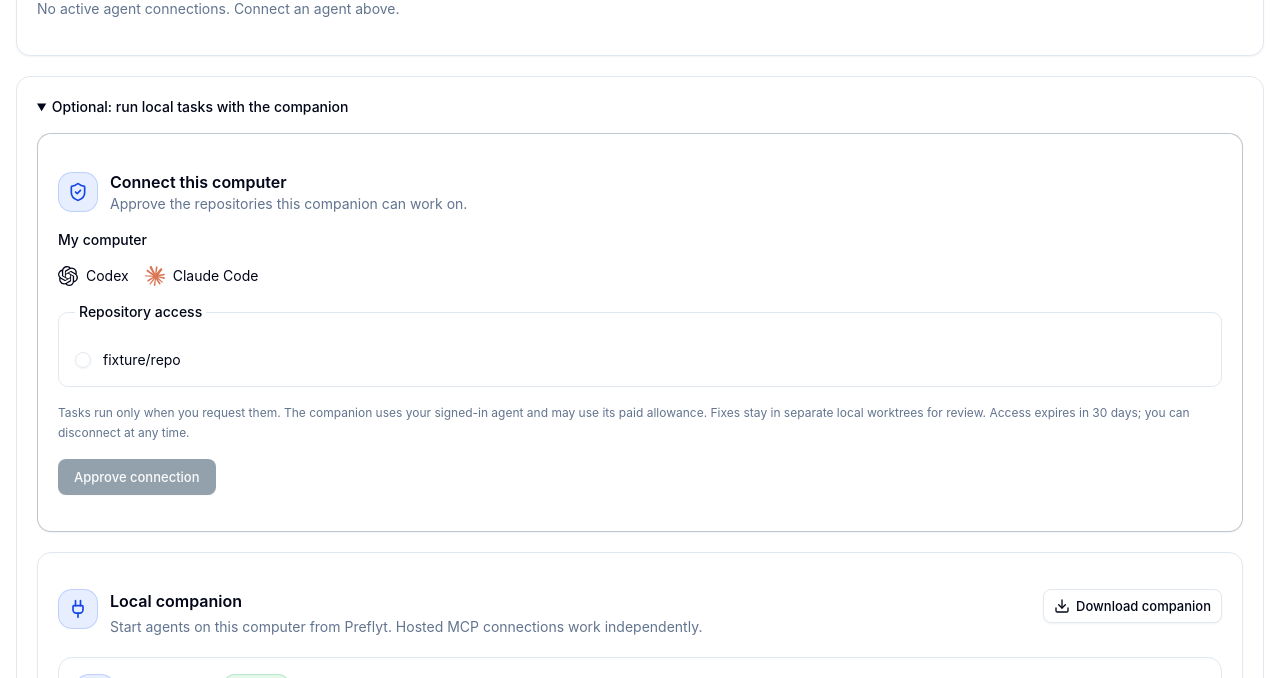
Test: requires explicit repository selection before approving a computer
The image size is (1280, 678).
(page scrolled)
Expected: the button "Approve connection" is disabled, [58,459,216,495]
Click the checkbox at (83, 360), box [75,352,91,368]
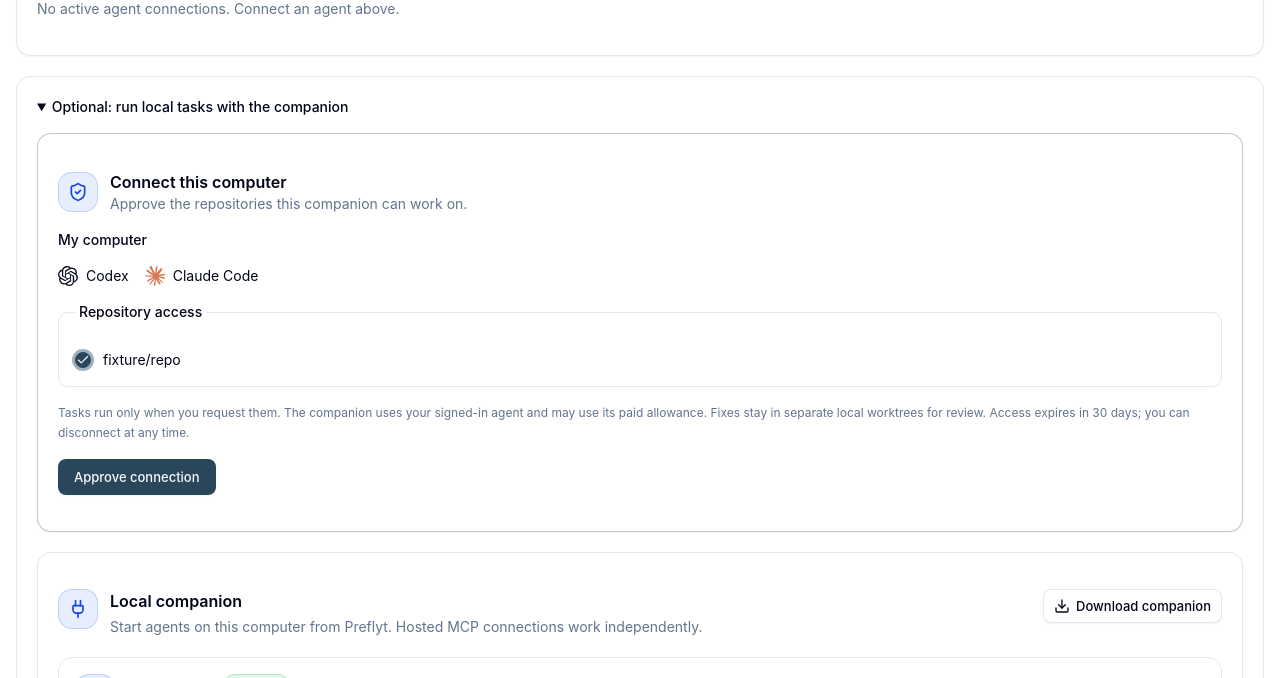
Result: the button "Approve connection" is enabled at [58,459,216,495]
